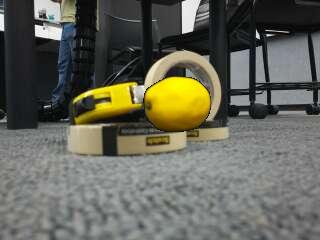lemon: (145, 77, 209, 131)
